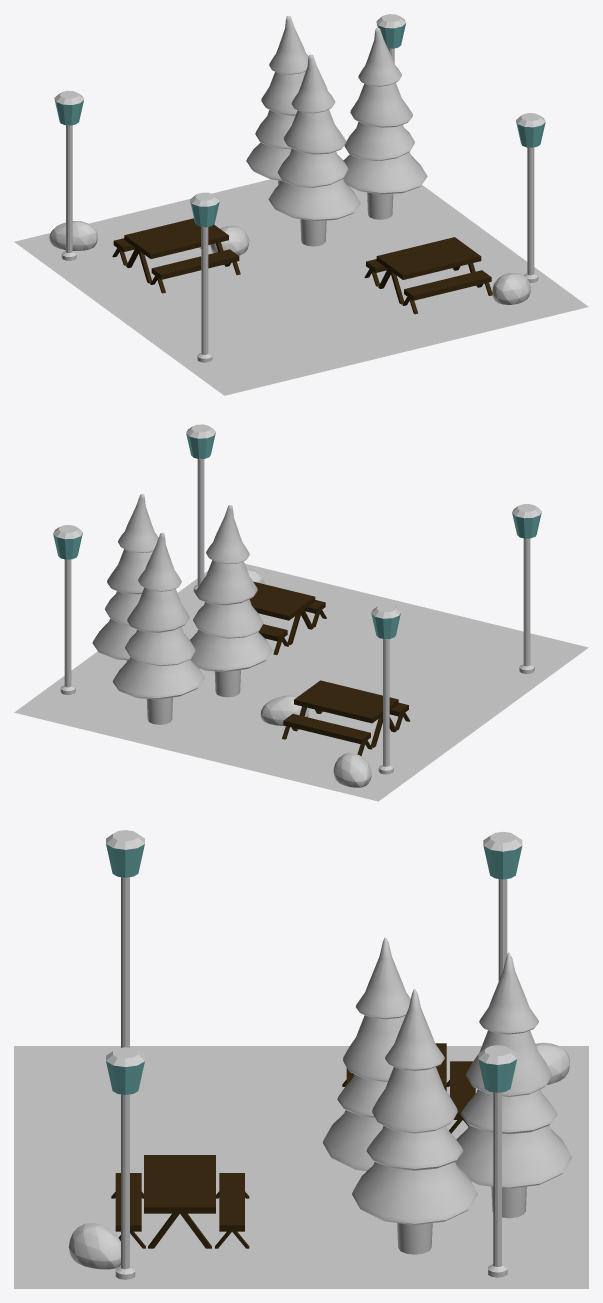
File: Merendero.fbx
3 views of the same model, one above another, from view 1: azimuth 30°, elevation 25°; view 2: azimuth 150°, elevation 25°; view 3: azimuth 270°, elevation 25° (orthographic). The views are drawn at different scales.
Parts seen in each view (by area): view 1: miniparque, Arbol_007, Arbol_008, Arbol_006, Box014, Box013, farola_009, farola_008, farola_006, arbusto_final003, arbusto_final005, farola_007 (+1 smaller); view 2: miniparque, Arbol_006, Arbol_007, Arbol_008, Box013, Box014, farola_009, farola_007, farola_008, farola_006, arbusto_final003, arbusto_final004; view 3: miniparque, Arbol_008, Arbol_006, Arbol_007, Box014, farola_008, farola_007, farola_009, farola_006, arbusto_final005, Box013, arbusto_final003.
Boxes of the visible parts, box(x1,y1,x2,y2) form: miniparque: box(14, 179, 588, 395); Arbol_007: box(268, 54, 360, 246); Arbol_008: box(343, 27, 427, 219); Arbol_006: box(246, 16, 308, 185); Box014: box(364, 237, 492, 314); Box013: box(112, 218, 240, 293); farola_009: box(190, 192, 219, 362); farola_008: box(516, 113, 545, 282); farola_006: box(54, 90, 83, 260); arbusto_final003: box(49, 221, 97, 250); arbusto_final005: box(492, 273, 530, 304); farola_007: box(376, 14, 405, 62); miniparque: box(14, 563, 588, 801); Arbol_006: box(112, 532, 204, 724); Arbol_007: box(190, 505, 272, 697); Arbol_008: box(92, 494, 158, 661); Box013: box(282, 680, 409, 756); Box014: box(250, 581, 326, 655); farola_009: box(512, 504, 541, 673); farola_007: box(53, 525, 82, 694); farola_008: box(186, 424, 215, 592); farola_006: box(371, 604, 400, 774); arbusto_final003: box(333, 752, 371, 787); arbusto_final004: box(260, 695, 309, 725); miniparque: box(14, 1046, 588, 1288); Arbol_008: box(352, 989, 477, 1254); Arbol_006: box(455, 952, 571, 1218); Arbol_007: box(322, 937, 410, 1171); Box014: box(111, 1155, 249, 1248); farola_008: box(106, 1047, 144, 1279); farola_007: box(478, 1045, 517, 1277); farola_009: box(106, 830, 144, 1047); farola_006: box(483, 831, 522, 981); arbusto_final005: box(68, 1223, 120, 1269); Box013: box(342, 1043, 475, 1133); arbusto_final003: box(535, 1042, 569, 1084).
Bounding box in the file's own units: 100 × 50.7 × 100.
